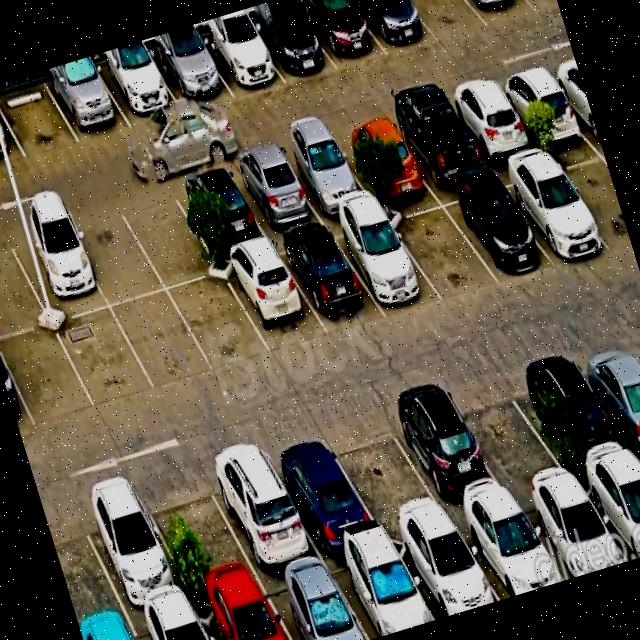empty: (445, 365, 573, 498), (134, 462, 259, 597), (321, 406, 449, 534), (382, 194, 498, 300), (42, 496, 126, 630), (115, 182, 220, 289), (64, 202, 165, 306), (54, 307, 156, 409), (111, 291, 214, 390), (169, 275, 271, 371), (0, 325, 95, 427), (546, 138, 632, 249), (0, 79, 79, 157), (0, 233, 50, 336), (407, 0, 488, 43)
occupied: (380, 384, 513, 519), (198, 437, 322, 576), (70, 478, 191, 615), (259, 425, 383, 556), (517, 344, 638, 476), (492, 153, 611, 262), (218, 242, 327, 355), (435, 176, 551, 282), (273, 225, 384, 334), (327, 210, 442, 313), (5, 216, 109, 322), (454, 500, 565, 599), (325, 539, 434, 639), (516, 482, 628, 579), (390, 522, 500, 619), (169, 165, 269, 256), (385, 98, 488, 186), (569, 330, 640, 457), (258, 561, 369, 640), (226, 149, 323, 236), (331, 116, 431, 198), (276, 134, 373, 218), (444, 80, 538, 162), (494, 64, 588, 145), (246, 5, 336, 83), (43, 65, 131, 142), (94, 52, 183, 128), (196, 24, 285, 96), (296, 0, 387, 70), (578, 458, 640, 560), (149, 39, 232, 111), (193, 580, 290, 640), (353, 0, 438, 55), (130, 599, 212, 640), (468, 0, 537, 25)
